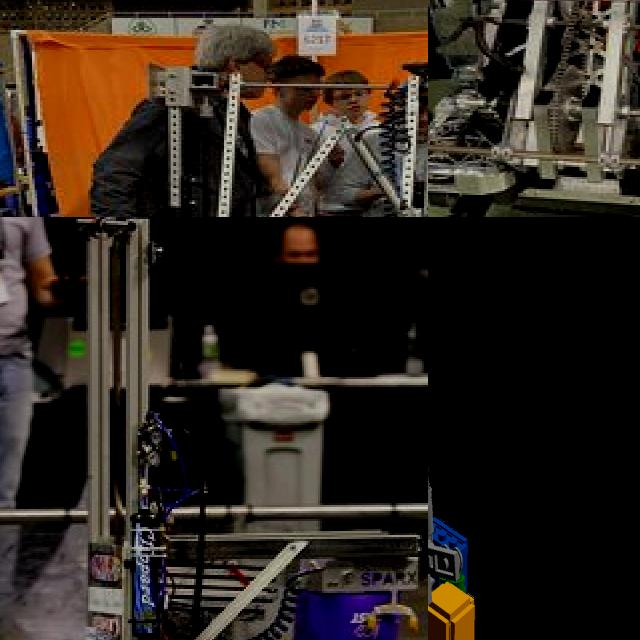FRC-Robots: (0, 217, 428, 640), (75, 0, 428, 217), (428, 0, 640, 217), (428, 252, 480, 640)
